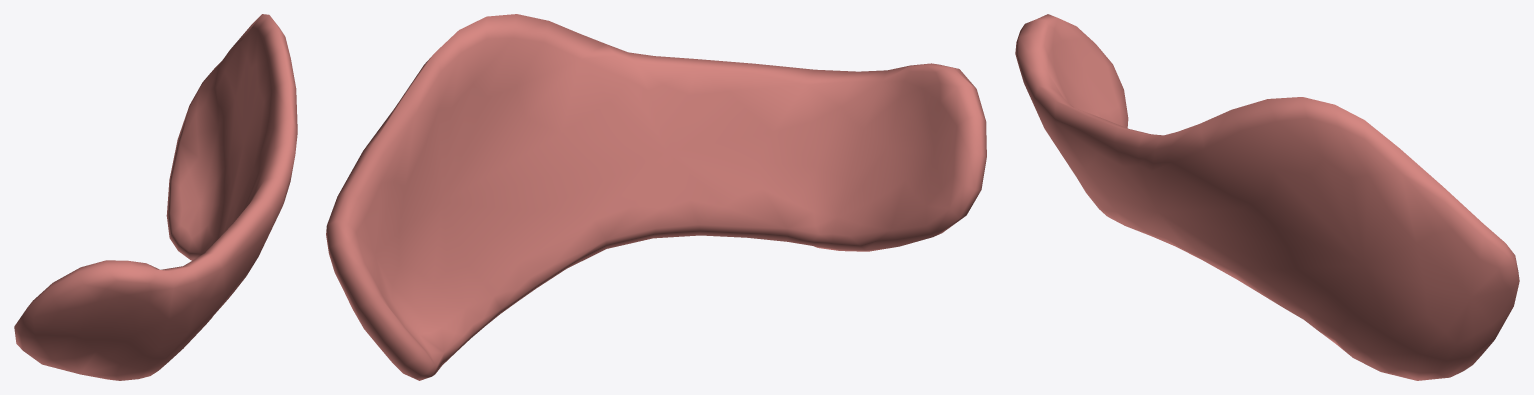
3 renders of one model, left to right at view 1: azimuth 30°, elevation 25°; view 2: azimuth 150°, elevation 25°; view 3: azimuth 270°, elevation 25°, orthographic. The views are drawn at different scales.
Visible parts, largest first — view 1: ZA_71f71a54fd95e5a1; view 2: ZA_71f71a54fd95e5a1; view 3: ZA_71f71a54fd95e5a1.
Part boxes in pixels (x1=…): ZA_71f71a54fd95e5a1: x1=14, y1=14, x2=297, y2=380; ZA_71f71a54fd95e5a1: x1=326, y1=14, x2=986, y2=380; ZA_71f71a54fd95e5a1: x1=1015, y1=14, x2=1519, y2=380.
Size of the model in its own units: 0.00722 by 0.00474 by 0.00758.
